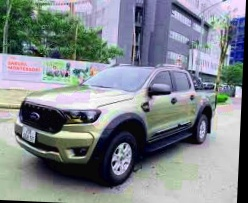Bien-so: (27, 123, 42, 142)
